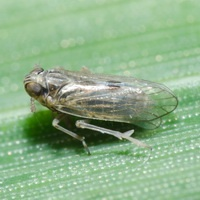insect: (24, 67, 177, 128)
